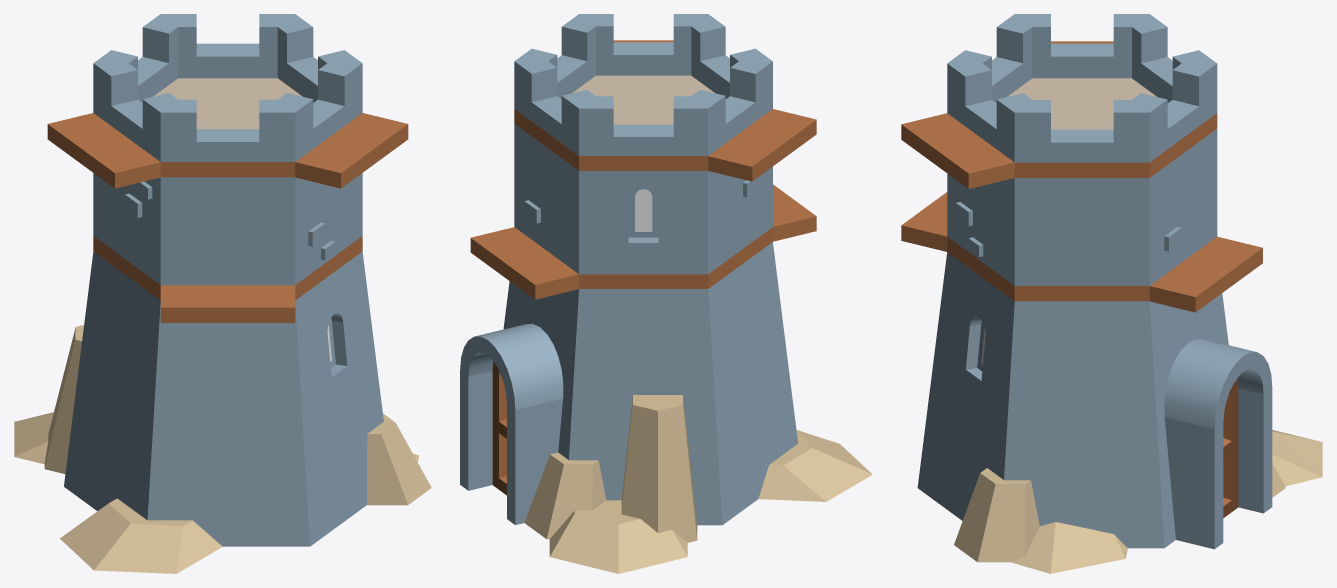
The model's file is tower.fbx.
The picture shows the model from 3 angles, left to right: view 1: azimuth 30°, elevation 25°; view 2: azimuth 150°, elevation 25°; view 3: azimuth 270°, elevation 25°; orthographic projection. The views are drawn at different scales.
Visible parts, largest first — view 1: tower; view 2: tower; view 3: tower.
Part boxes in pixels (box(x1,y1,x2,y2)): tower: box(14, 14, 431, 573); tower: box(460, 14, 872, 573); tower: box(901, 14, 1322, 573).
Size of the model in its own units: 33.22 by 37.15 by 33.4.
